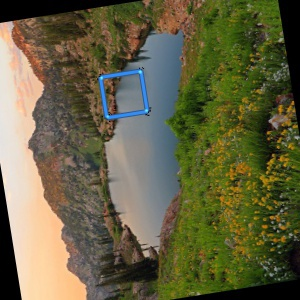square: (95, 68, 153, 120)
